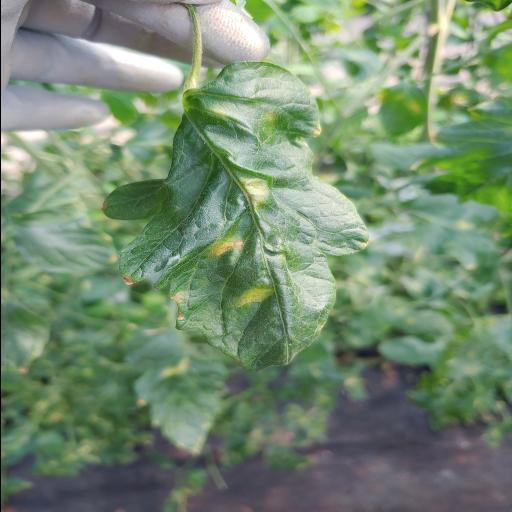disease_tomato: (99, 61, 374, 370)
